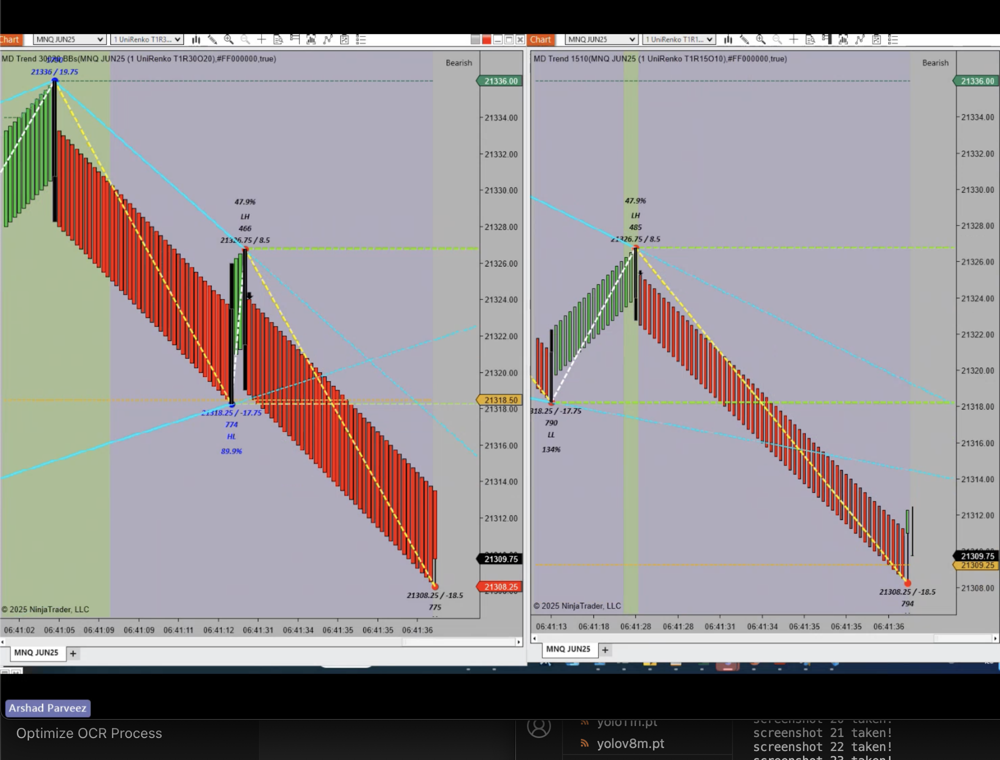HL: (222, 424, 242, 446)
LH: (627, 207, 646, 224), (236, 209, 256, 223)
LL: (542, 425, 563, 445)
